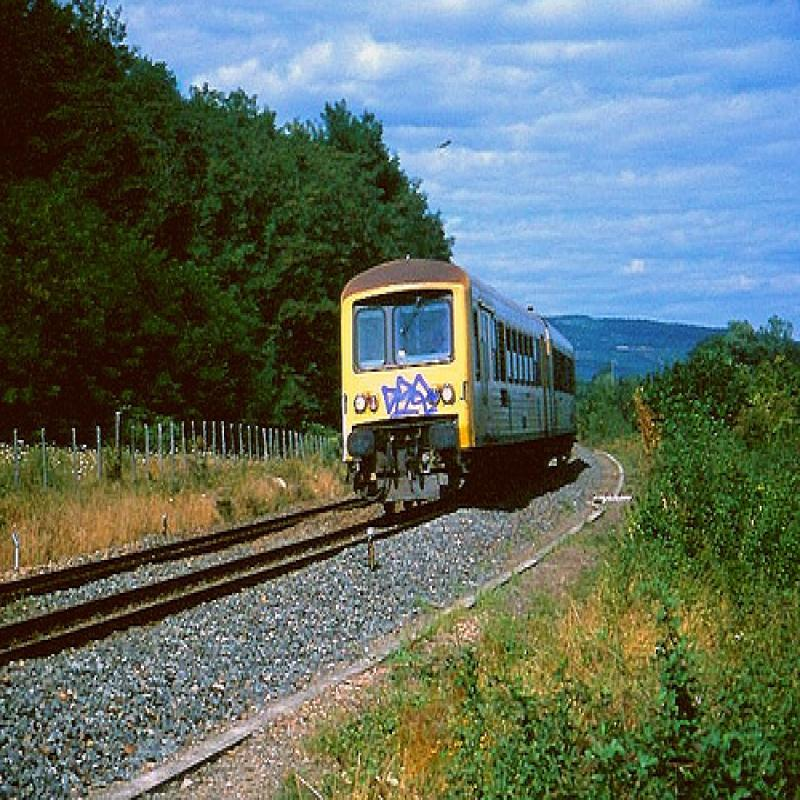train: (339, 250, 579, 521)
